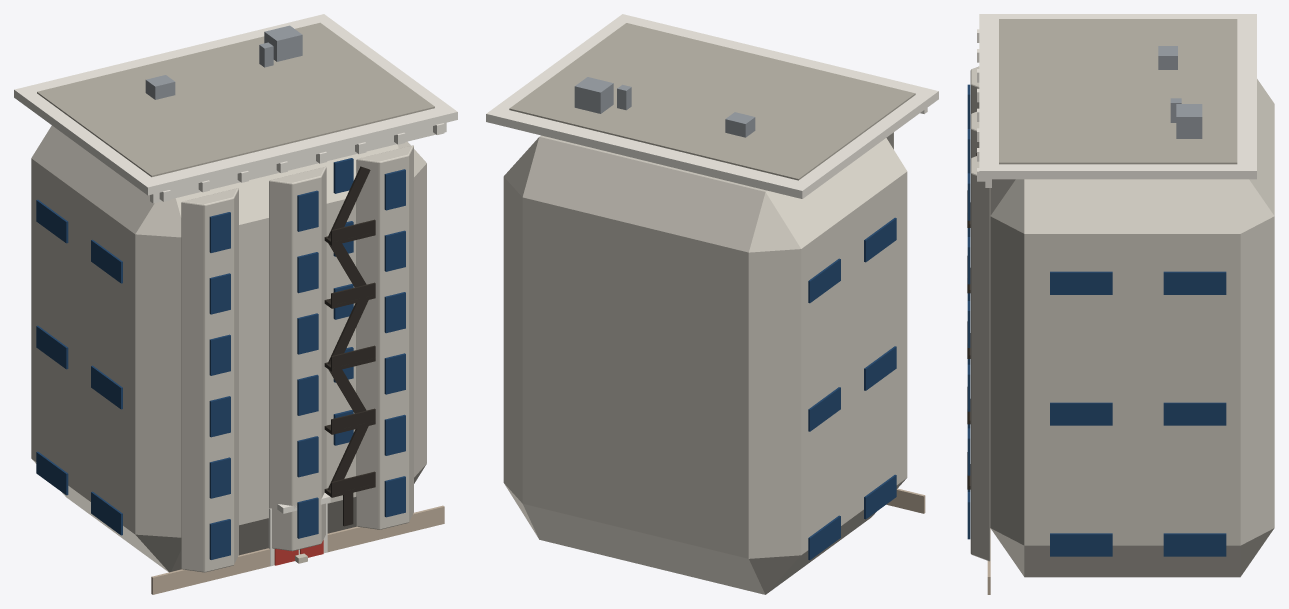
The model's file is aptfe_w16_f6.glb.
3 views of the same model, side by side, from view 1: azimuth 30°, elevation 25°; view 2: azimuth 150°, elevation 25°; view 3: azimuth 270°, elevation 25° (orthographic). The views are drawn at different scales.
Parts seen in each view (by area): view 1: walls, roofslab, bay, bay.001, bay.002, corn, bsmt, frieze, hvac2, bw.014, bw.002, bw.004 (+33 smaller); view 2: walls, roofslab, corn, hvac2, sb.004, sb.006, sb, sb.002, sb.008, sb.010, bsmt, hvac; view 3: walls, roofslab, corn, bay.002, sb.003, sb.007, sb.011, sb.001, sb.005, sb.009, hvac2, hvac.
Boxes of the visible parts, bbox=[...] form: walls: bbox=[31, 125, 426, 572]; roofslab: bbox=[37, 22, 434, 177]; bay: bbox=[181, 188, 238, 572]; bay.001: bbox=[269, 166, 326, 551]; bay.002: bbox=[356, 145, 413, 529]; corn: bbox=[14, 14, 457, 195]; bsmt: bbox=[151, 505, 444, 594]; frieze: bbox=[150, 122, 446, 203]; hvac2: bbox=[264, 25, 302, 61]; bw.014: bbox=[384, 353, 405, 394]; bw.002: bbox=[209, 396, 230, 437]; bw.004: bbox=[209, 273, 230, 314]; walls: bbox=[503, 135, 907, 594]; roofslab: bbox=[509, 23, 915, 180]; corn: bbox=[486, 14, 938, 198]; hvac2: bbox=[574, 77, 613, 113]; sb.004: bbox=[864, 346, 896, 390]; sb.006: bbox=[808, 387, 840, 431]; sb: bbox=[864, 474, 896, 519]; sb.002: bbox=[808, 515, 840, 560]; sb.008: bbox=[864, 217, 896, 262]; sb.010: bbox=[808, 258, 840, 303]; bsmt: bbox=[886, 488, 925, 513]; hvac: bbox=[725, 112, 755, 137]; walls: bbox=[990, 79, 1274, 577]; roofslab: bbox=[999, 19, 1237, 164]; corn: bbox=[979, 14, 1256, 179]; bay.002: bbox=[970, 156, 990, 561]; sb.003: bbox=[1163, 533, 1226, 556]; sb.007: bbox=[1163, 402, 1226, 425]; sb.011: bbox=[1163, 271, 1226, 294]; sb.001: bbox=[1050, 533, 1112, 556]; sb.005: bbox=[1050, 402, 1112, 425]; sb.009: bbox=[1050, 271, 1112, 294]; hvac2: bbox=[1176, 104, 1202, 138]; hvac: bbox=[1158, 46, 1177, 69].
Size of the model in its own units: 17 by 22.8 by 14.05.
